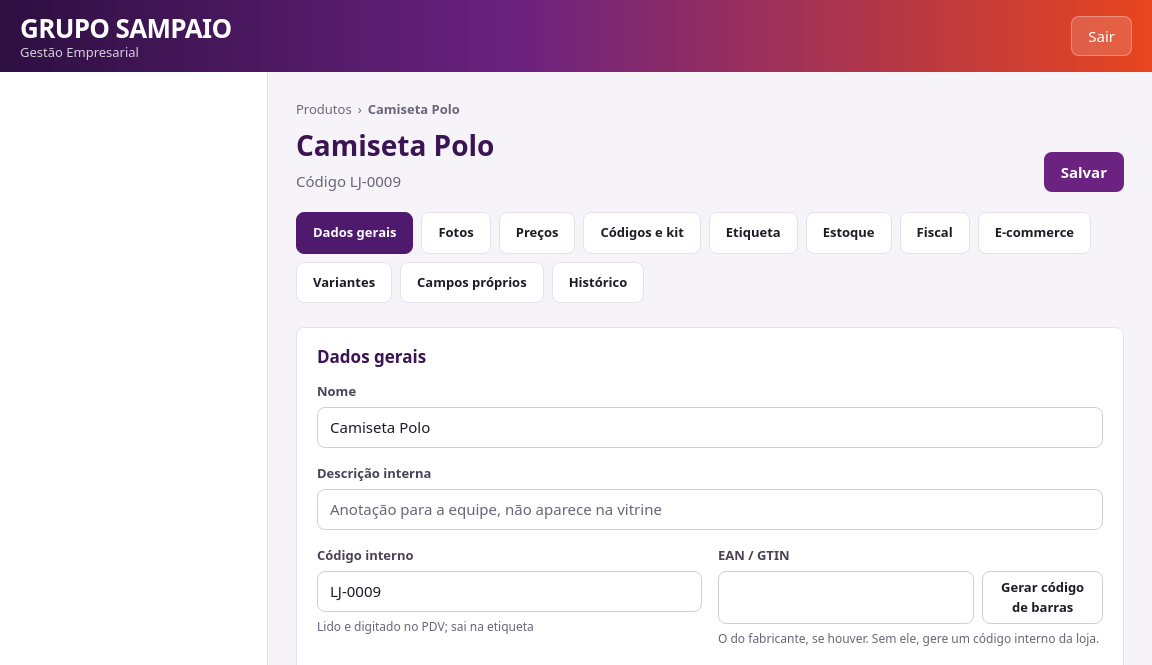
Test: o grupo tributário existe na tela (GAP-V01) › com DOIS grupos ativos a dica diz que o produto precisa escolher
The width and height of the screenshot is (1152, 665).
Expected: the field showing "Camiseta Polo" is shown, [317,407,1103,448]
Click the tab "Fiscal" at (935, 233), box [900,212,970,254]
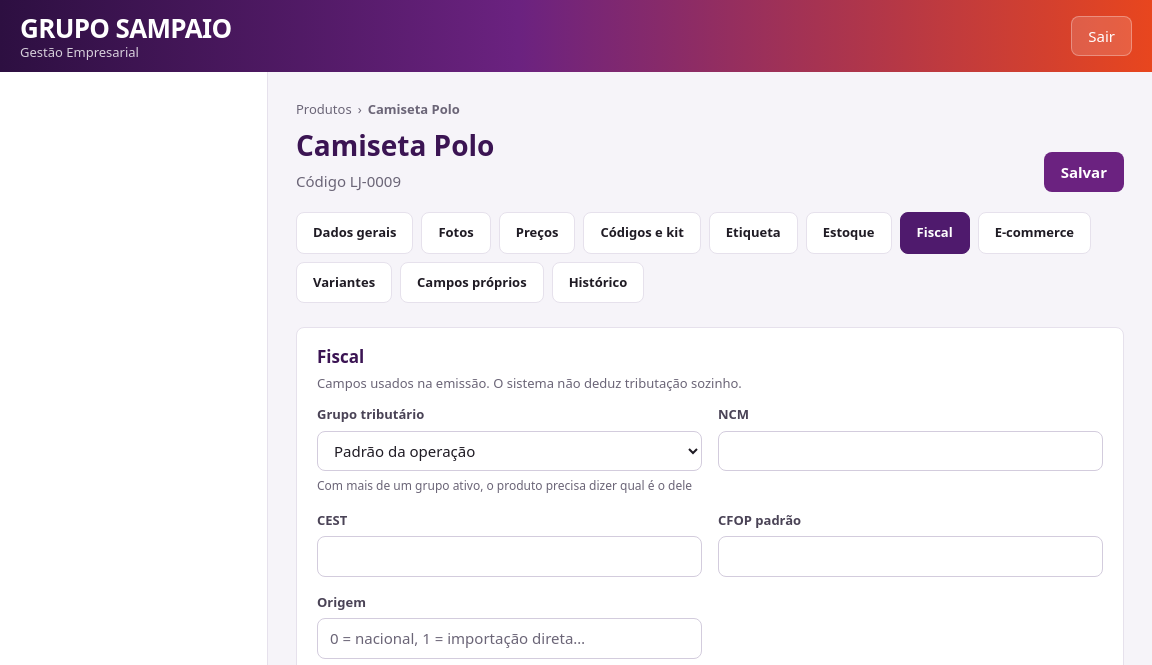
Result: the text "precisa dizer qual é o dele" is shown at [317,476,692,494]
